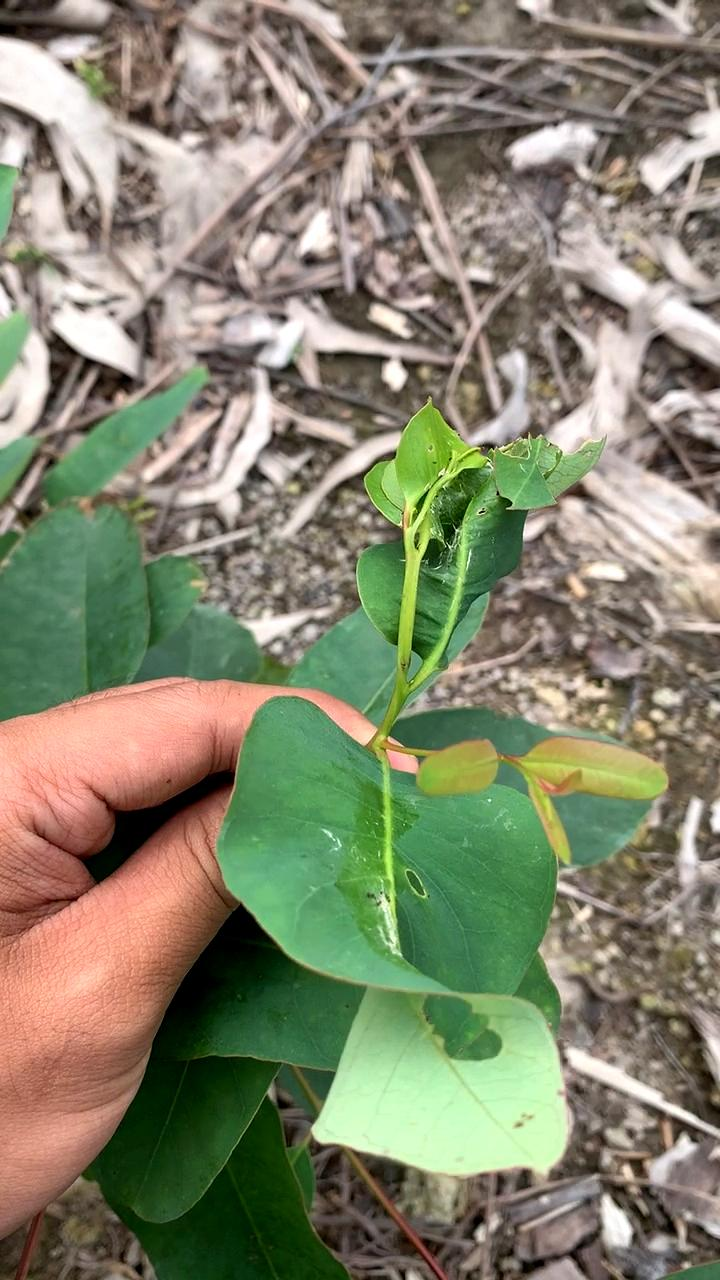Leaf Roller - Leaf: (363, 393, 617, 644)
